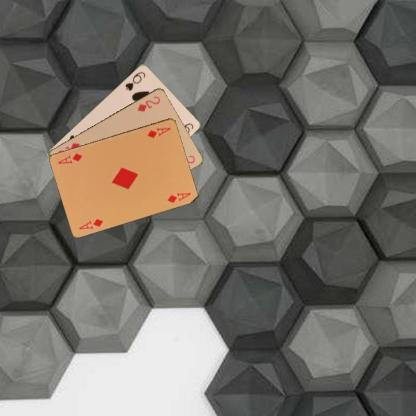2d: (135, 93, 161, 113)
6s: (122, 69, 147, 92)
Ad: (76, 216, 105, 230), (144, 125, 172, 139)
